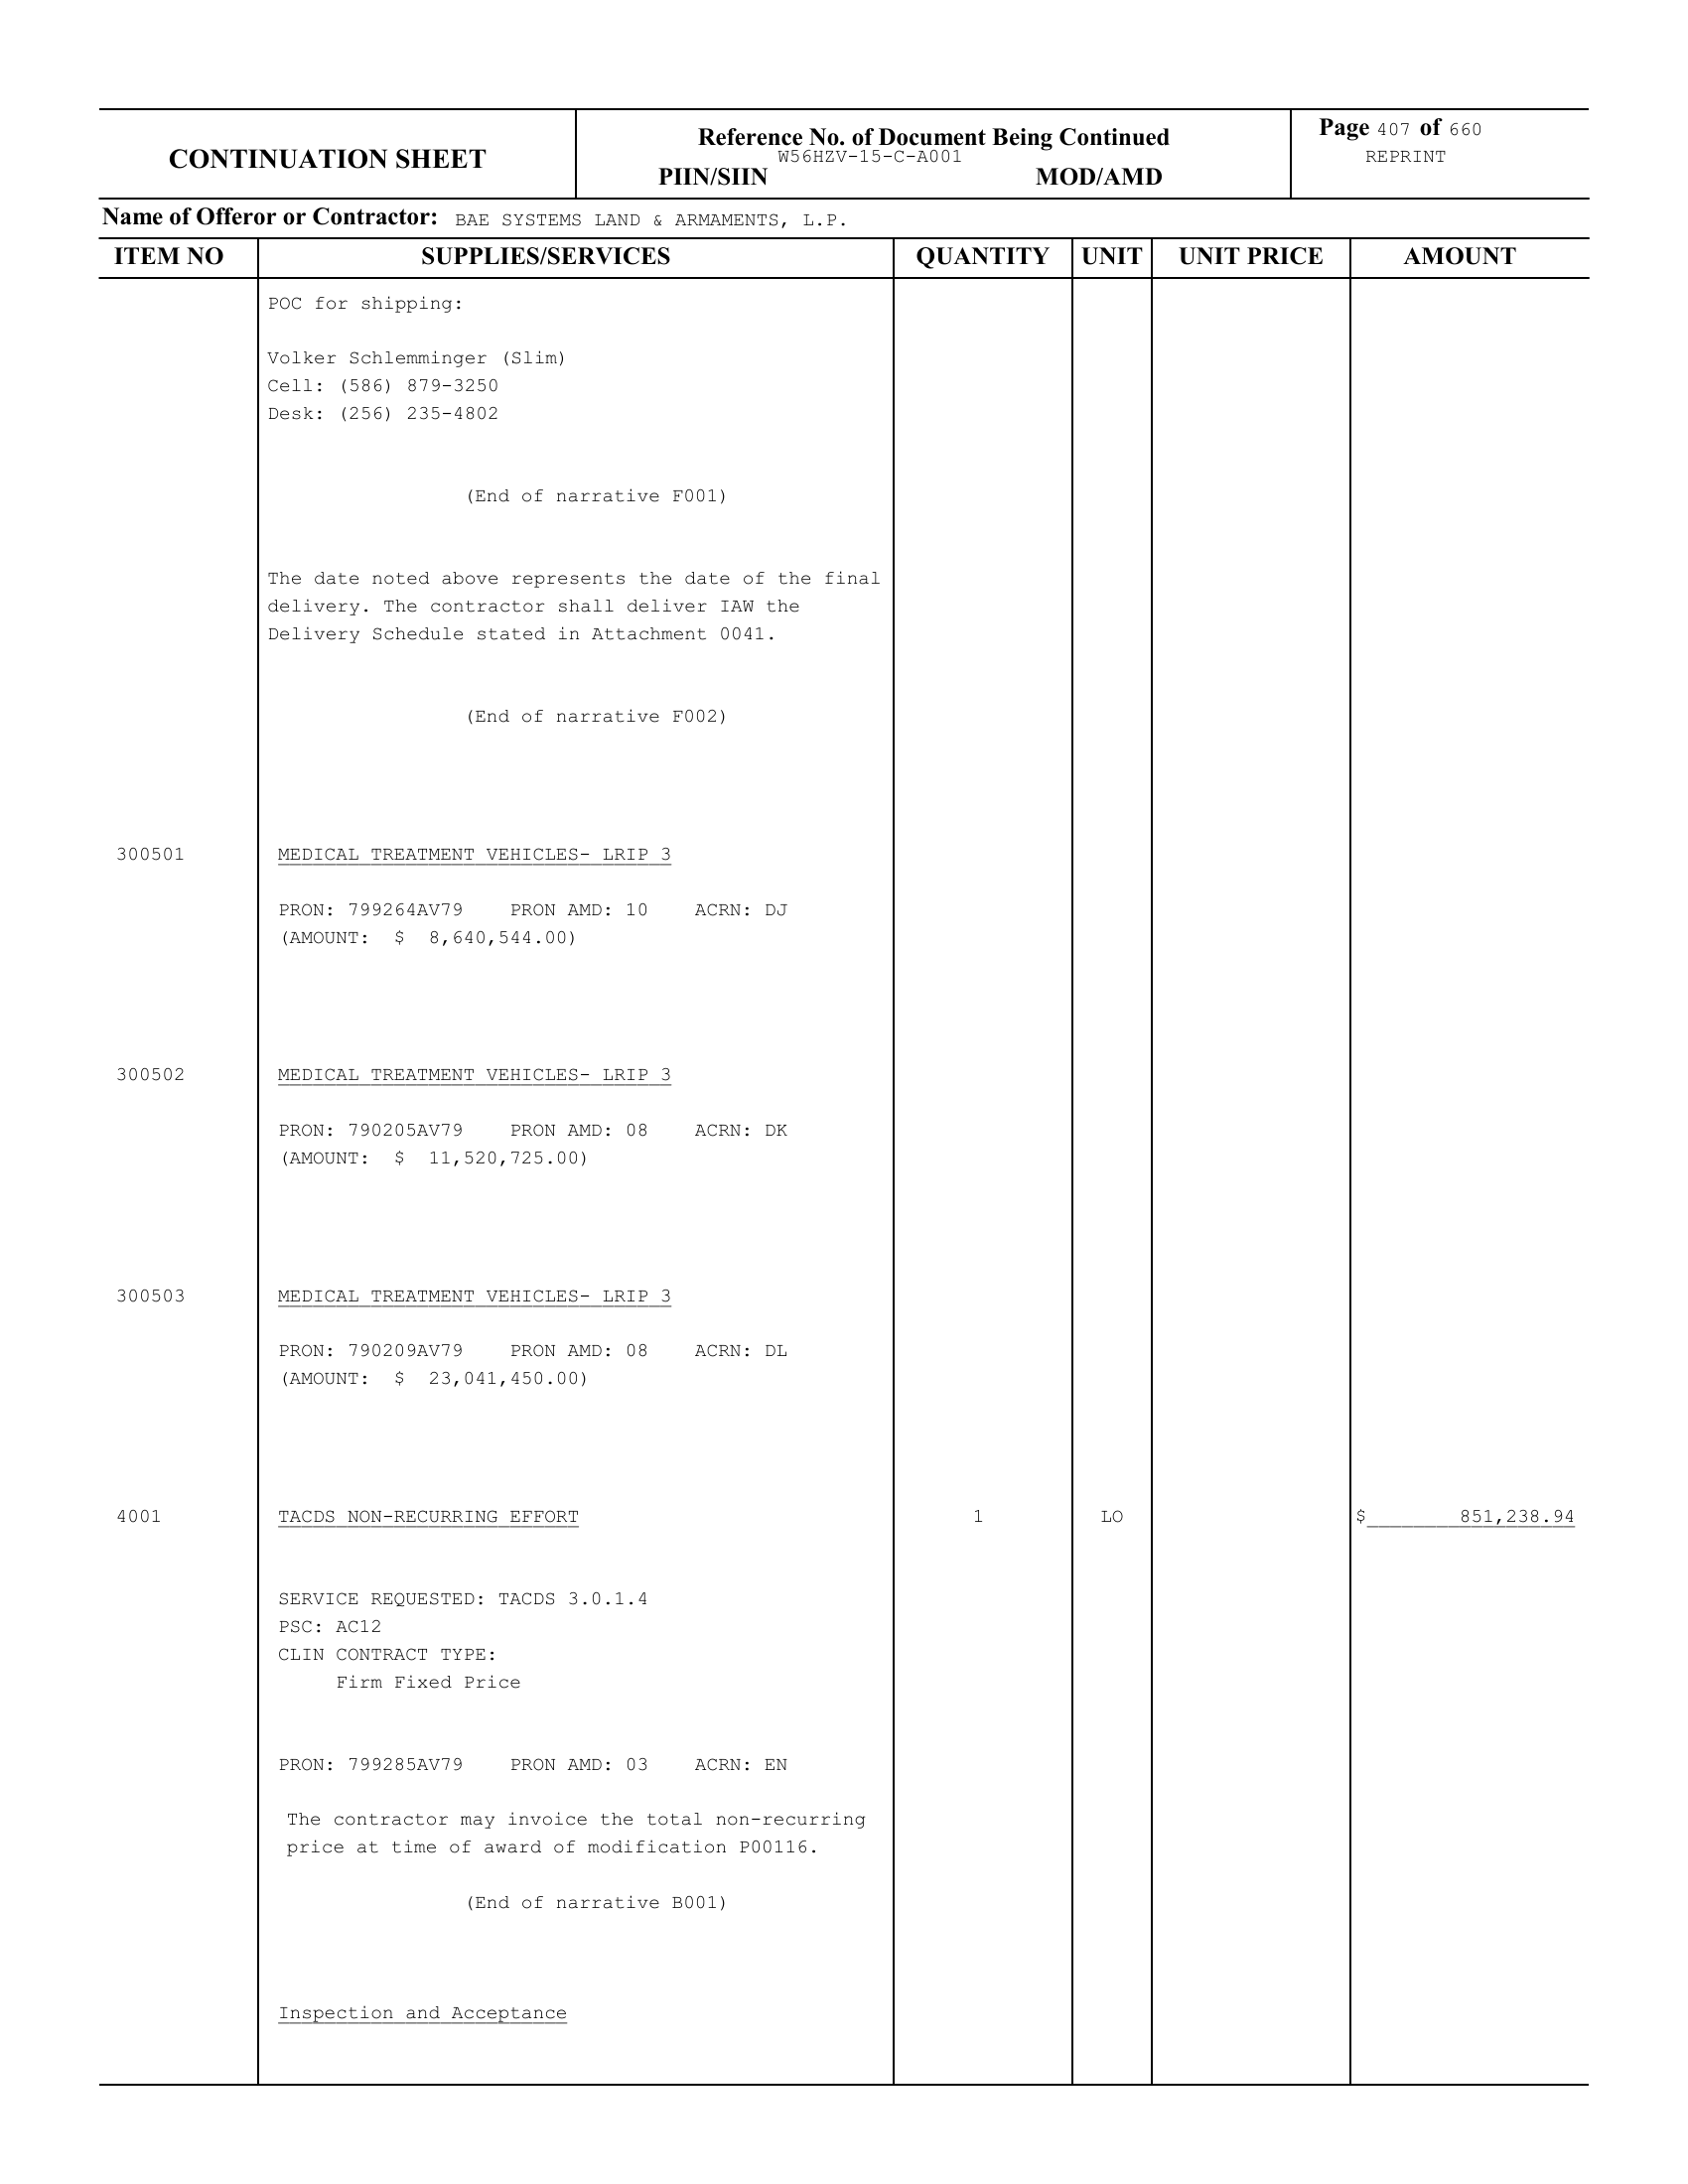table: (94, 241, 1585, 2086)
